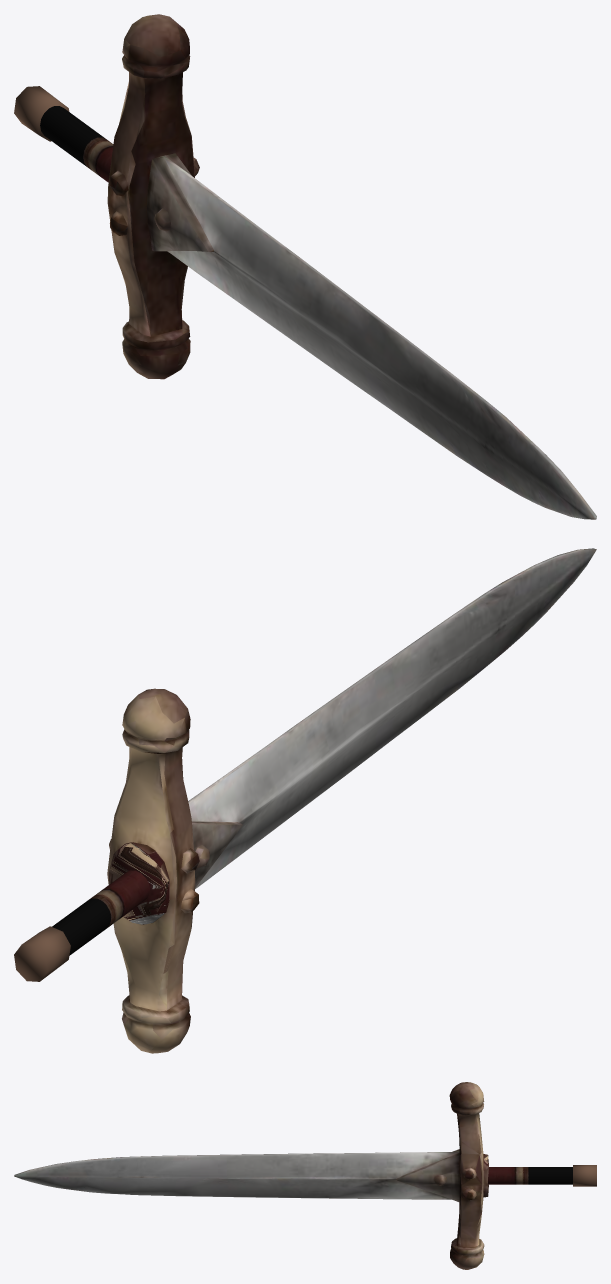
Rendered from longsword.glb.
3 views of the same model, one above another, from view 1: azimuth 30°, elevation 25°; view 2: azimuth 150°, elevation 25°; view 3: azimuth 270°, elevation 25° (orthographic). The views are drawn at different scales.
Visible parts, largest first — view 1: WeaponDrawn; view 2: WeaponDrawn; view 3: WeaponDrawn.
Part boxes in pixels (left/top/right/bottom): WeaponDrawn: left=14, top=14, right=596, bottom=519; WeaponDrawn: left=14, top=548, right=596, bottom=1053; WeaponDrawn: left=14, top=1082, right=596, bottom=1269.
Size of the model in its own units: 0.081 by 0.3272 by 0.9362.
2 materials, 2 textured.
